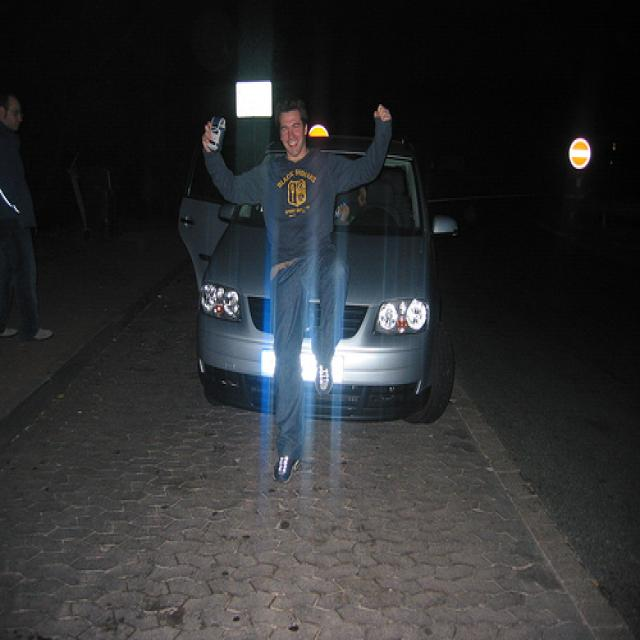light_vehicle: (173, 123, 463, 425)
